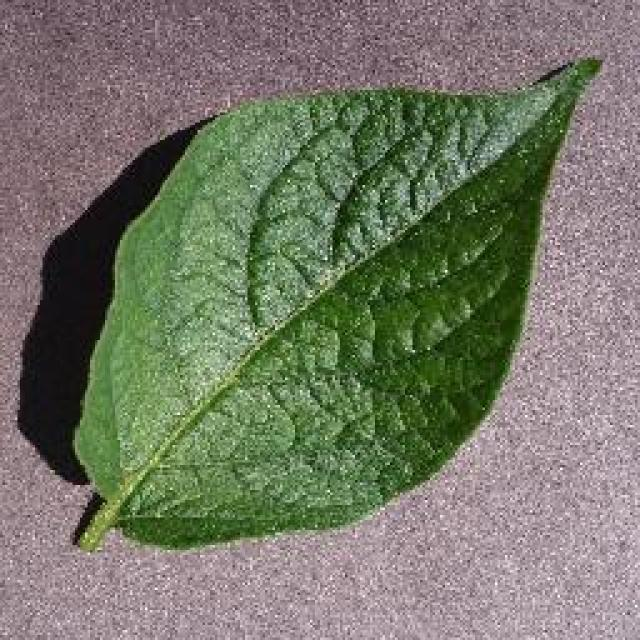healthy: (65, 52, 607, 558)
